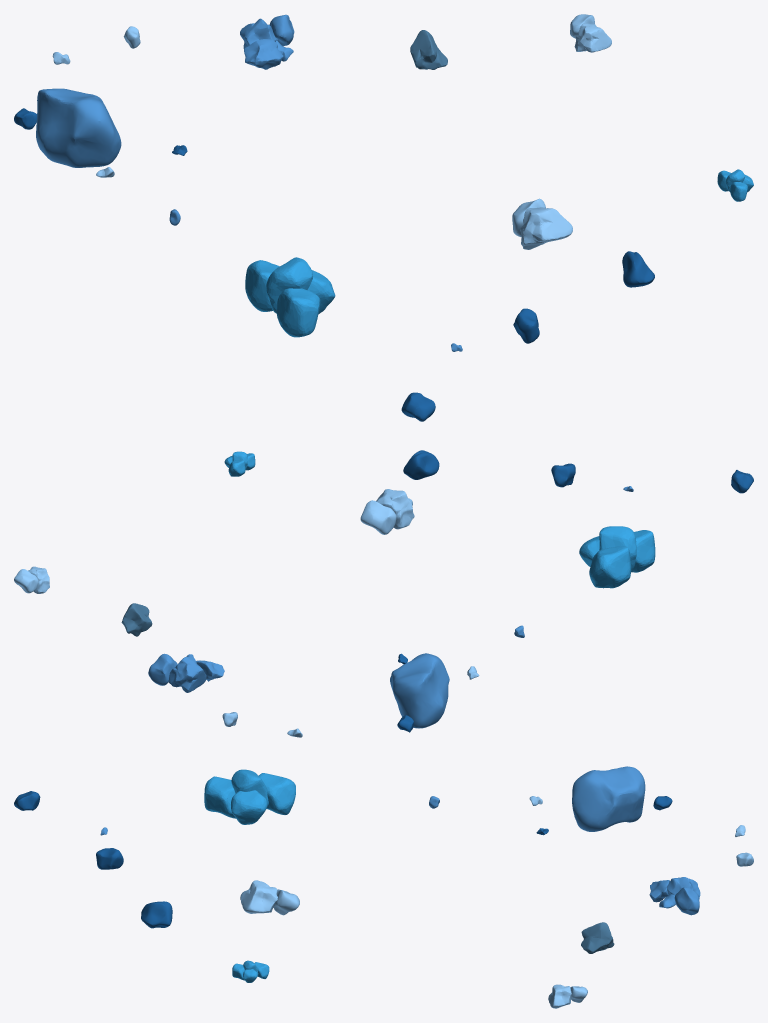
File: rocks_only_1mb.glb
3 renders of one model, top to bottom at view 1: azimuth 30°, elevation 25°; view 2: azimuth 150°, elevation 25°; view 3: azimuth 270°, elevation 25°, orthographic. The views are drawn at different scales.
Visible parts, largest first — view 1: rock3.006; view 2: rock3.006; view 3: rock3.006.
Part boxes in pixels (<box>): rock3.006: <box>14,14,753,421</box>; rock3.006: <box>14,450,753,737</box>; rock3.006: <box>14,766,753,1008</box>.
Bounding box in the file's own units: 52.17 × 6.18 × 77.16.
